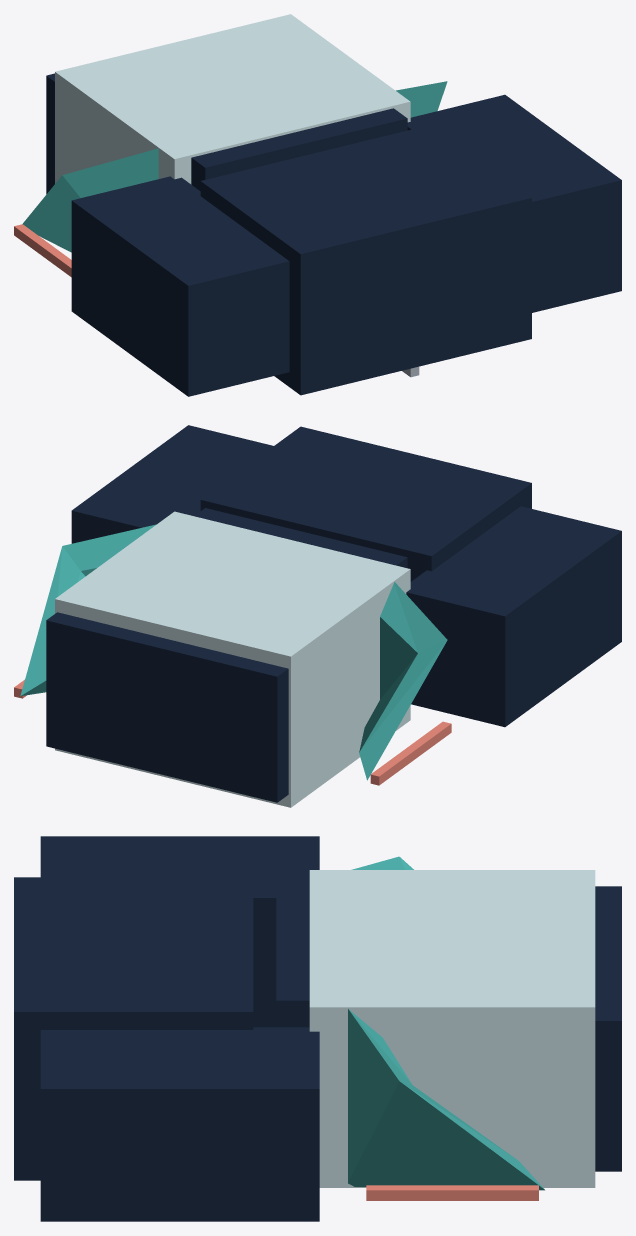
The model's file is pulse-bloom-track-set-prototype.obj.
3 renders of one model, top to bottom at view 1: azimuth 30°, elevation 25°; view 2: azimuth 150°, elevation 25°; view 3: azimuth 270°, elevation 25°, orthographic. The views are drawn at different scales.
Visible parts, largest first — view 1: bomber_body, raglan_sleeve_L, short_L, raglan_sleeve_R, short_R, waistband, side_gusset_L, side_gusset_R, leg_cuffs, gusset_piping_L; view 2: leg_cuffs, raglan_sleeve_L, short_L, bomber_body, short_R, raglan_sleeve_R, side_gusset_L, side_gusset_R, waistband, gusset_piping_L; view 3: raglan_sleeve_R, short_R, bomber_body, short_L, side_gusset_R, raglan_sleeve_L, leg_cuffs, waistband, gusset_piping_R.
Boxes of the visible parts, <box> form: bomber_body: <box>200,124,531,395</box>; raglan_sleeve_L: <box>71,176,289,396</box>; short_L: <box>55,41,299,184</box>; raglan_sleeve_R: <box>407,94,621,312</box>; short_R: <box>168,14,410,131</box>; waistband: <box>191,108,407,190</box>; side_gusset_L: <box>22,148,158,252</box>; side_gusset_R: <box>396,81,447,117</box>; leg_cuffs: <box>46,73,54,194</box>; gusset_piping_L: <box>14,224,71,277</box>; leg_cuffs: <box>46,612,288,802</box>; raglan_sleeve_L: <box>406,506,621,727</box>; short_L: <box>165,542,410,807</box>; bomber_body: <box>200,426,531,581</box>; short_R: <box>55,511,299,780</box>; raglan_sleeve_R: <box>71,425,273,543</box>; side_gusset_L: <box>359,582,447,780</box>; side_gusset_R: <box>20,524,156,696</box>; waistband: <box>194,508,407,568</box>; gusset_piping_L: <box>370,721,451,785</box>; raglan_sleeve_R: <box>40,1027,319,1221</box>; short_R: <box>309,934,595,1187</box>; bomber_body: <box>14,877,253,1180</box>; short_L: <box>309,870,595,942</box>; side_gusset_R: <box>348,1009,544,1190</box>; raglan_sleeve_L: <box>40,836,319,1027</box>; leg_cuffs: <box>595,886,621,1171</box>; waistband: <box>276,882,309,1027</box>; gusset_piping_R: <box>366,1185,538,1200</box>.
Bounding box in the file's own units: 0.9 × 0.31 × 0.915.
